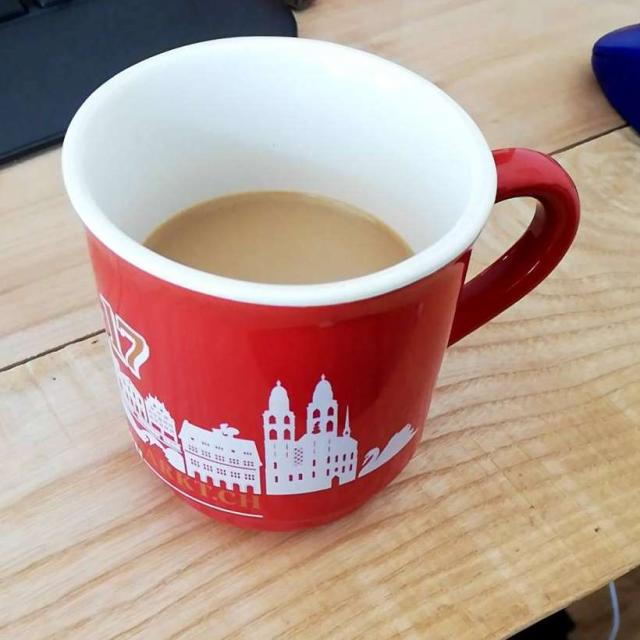coffee-with-caffeine: (150, 192, 408, 280)
